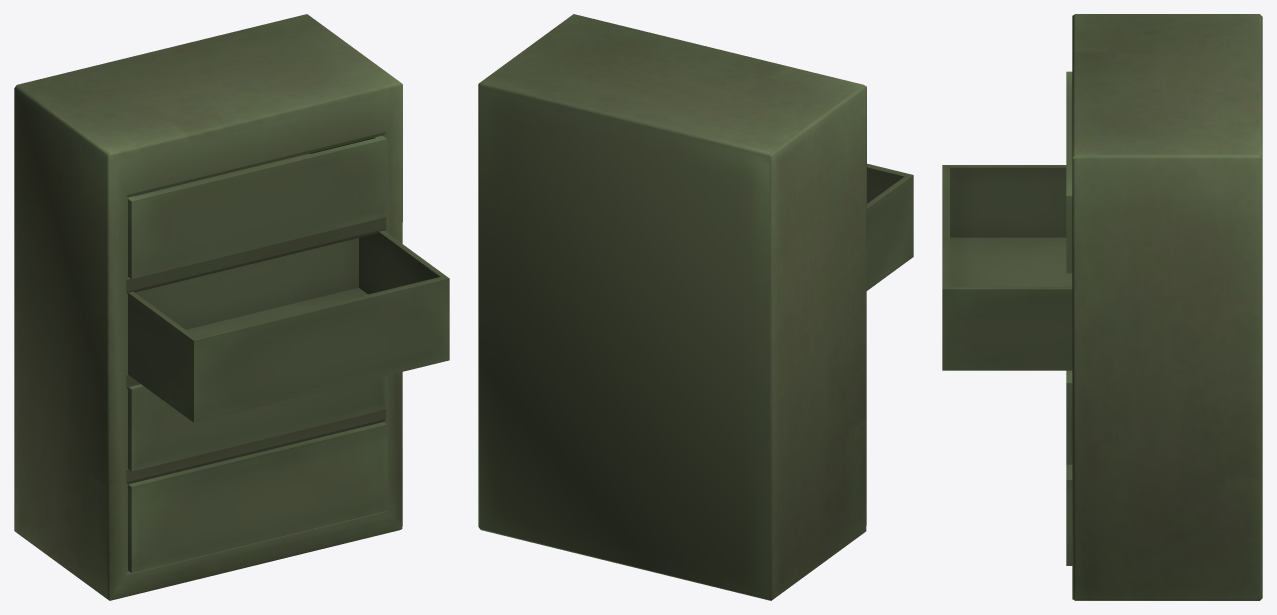
Rendered from Drawer.FBX.
The picture shows the model from 3 angles, left to right: view 1: azimuth 30°, elevation 25°; view 2: azimuth 150°, elevation 25°; view 3: azimuth 270°, elevation 25°; orthographic projection.
Parts seen in each view (by area): view 1: Box014; view 2: Box014; view 3: Box014.
Part boxes in pixels (left/top/right/bottom): Box014: left=14, top=14, right=449, bottom=600; Box014: left=478, top=14, right=913, bottom=600; Box014: left=942, top=14, right=1262, bottom=600.
Bounding box in the file's own units: 221 × 321 × 209.
1 material, 1 textured.
